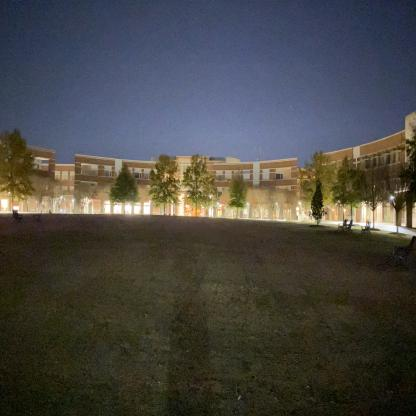eb2: (69, 149, 310, 229)
